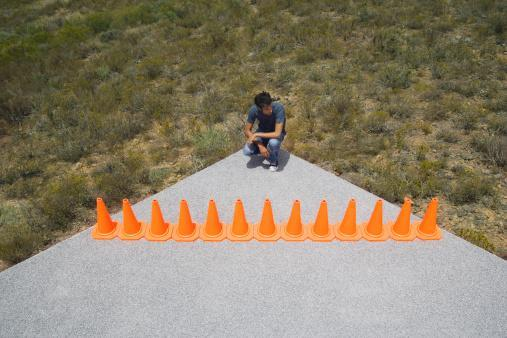Cone: (334, 197, 364, 241), (116, 199, 145, 239), (144, 200, 172, 241), (308, 200, 336, 241), (282, 198, 308, 242), (417, 199, 444, 240), (92, 198, 118, 239), (201, 201, 227, 241), (392, 198, 416, 241), (173, 201, 199, 240), (365, 200, 390, 240), (229, 202, 253, 239), (257, 199, 278, 241)
